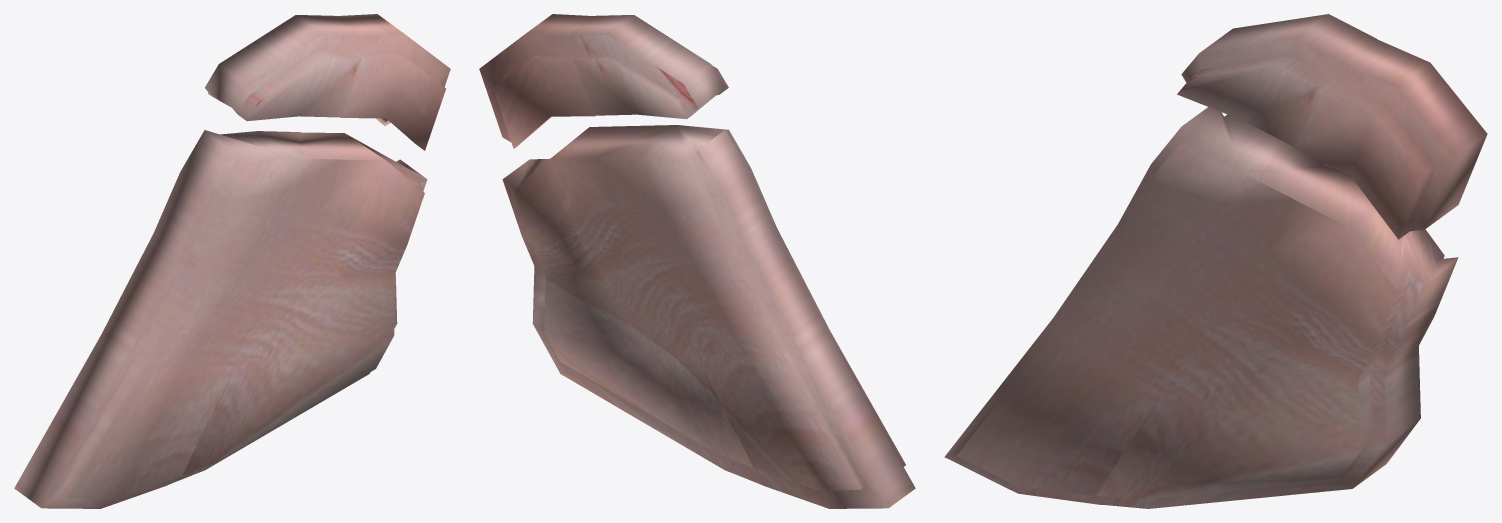
The model's file is dada ayam 1.fbx.
3 renders of one model, left to right at view 1: azimuth 30°, elevation 25°; view 2: azimuth 150°, elevation 25°; view 3: azimuth 330°, elevation 25°, orthographic. The views are drawn at different scales.
Parts seen in each view (by area): view 1: potongan 1, potongan 1.001; view 2: potongan 1, potongan 1.001; view 3: potongan 1, potongan 1.001.
Part boxes in pixels (x1,y1,x2,y2): potongan 1: (14,130,427,508); potongan 1.001: (205,14,450,150); potongan 1: (502,125,915,508); potongan 1.001: (479,14,728,148); potongan 1: (944,107,1458,508); potongan 1.001: (1177,14,1487,239).
Bounding box in the file's own units: 276 × 271 × 47.24.
Materials: 1 (1 with a texture image).
